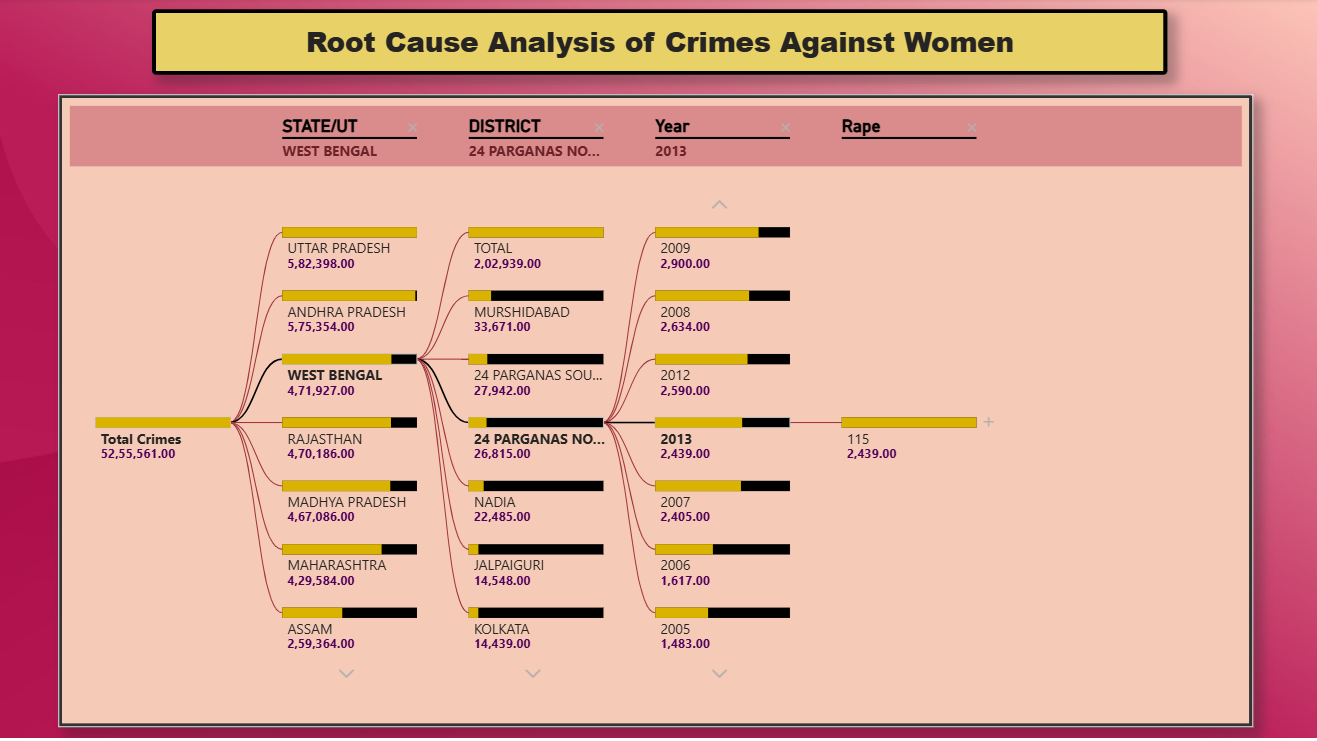

This screenshot's page, from the dashboard's own definition file:
{"tool":"powerbi","page":{"name":"Page 5","canvas":[1280,720],"ordinal":4},"visuals":[{"type":"decompositionTreeVisual","fields":{"Analyze":["crimes_against_women_2001-2014.Total crime"],"ExplainBy":["crimes_against_women_2001-2014.STATE/UT","crimes_against_women_2001-2014.DISTRICT","crimes_against_women_2001-2014.Year","crimes_against_women_2001-2014.Rape","crimes_against_women_2001-2014.Kidnapping and Abduction","crimes_against_women_2001-2014.Insult to modesty of Women","crimes_against_women_2001-2014.Dowry Deaths","crimes_against_women_2001-2014.Cruelty by Husband or his Relatives","crimes_against_women_2001-2014.Assault on women with intent to outrage her modesty","crimes_against_women_2001-2014.Importation of Girls"]},"box":[59.5,92.6,1153.1,611.1],"z":0},{"type":"textbox","box":[149.3,11.1,980.3,63.6],"z":1000}]}

Visuals, with their boxes in screenshot pixels (x1, y1, x2, y2), scaled from the page's 1280x720 canvas onto the 1317x741 screenshot:
decompositionTreeVisual - crimes_against_women_2001-2014.Total crime x crimes_against_women_2001-2014.STATE/UT: {"x1": 61, "y1": 95, "x2": 1248, "y2": 724}
textbox: {"x1": 154, "y1": 11, "x2": 1162, "y2": 77}
